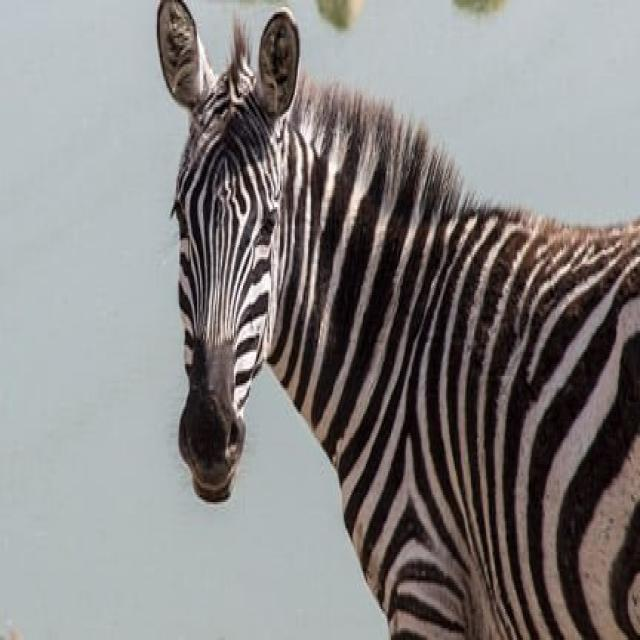Zebra: (147, 5, 640, 640)
